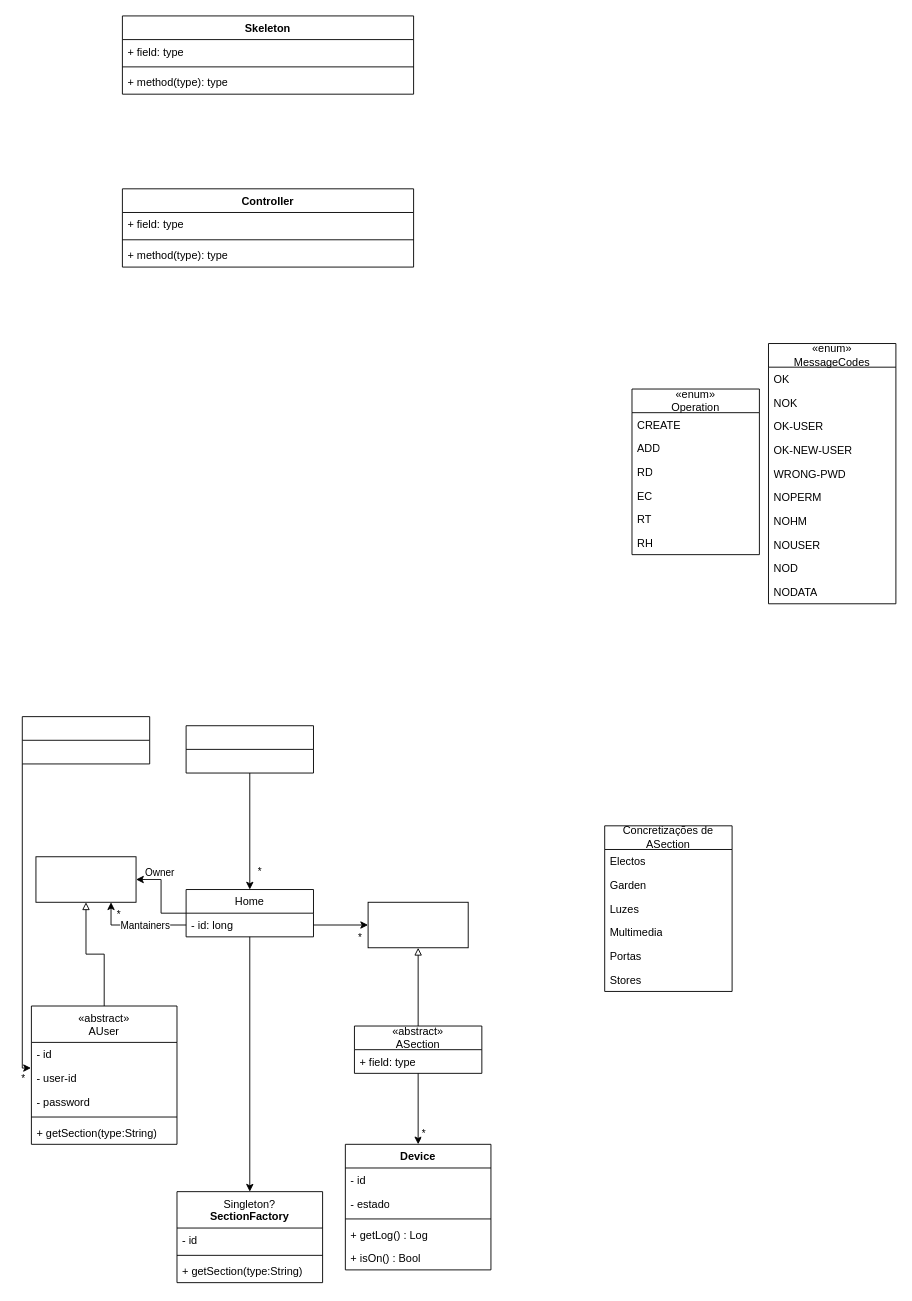
This 912x1301 diagram has some shape labels left out. Here are the shapes that lost their labels. From the top down, the centre of each, then its label:
At (x=85, y=740): "UserCatalog".
At (x=249, y=749): "HomeCatalog".
At (x=85, y=879): "«interface» IUser".
At (x=417, y=924): "«interface» ISection".
